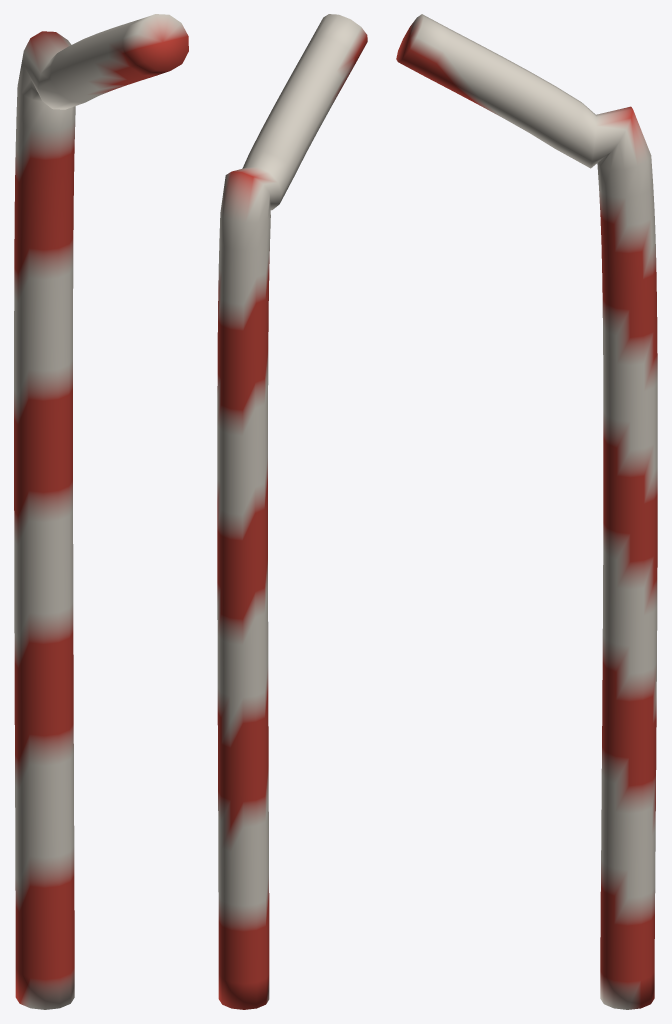
Rendered from strohhalm.glb.
The picture shows the model from 3 angles, left to right: view 1: azimuth 30°, elevation 25°; view 2: azimuth 150°, elevation 25°; view 3: azimuth 270°, elevation 25°; orthographic projection. The views are drawn at different scales.
Parts seen in each view (by area): view 1: strohhalm-lack; view 2: strohhalm-lack; view 3: strohhalm-lack.
Part boxes in pixels (x1,y1,x2,y2): strohhalm-lack: (14,14,188,1009); strohhalm-lack: (217,14,367,1009); strohhalm-lack: (396,14,657,1009).
Size of the model in its own units: 0.1 by 1.99 by 0.4814.
